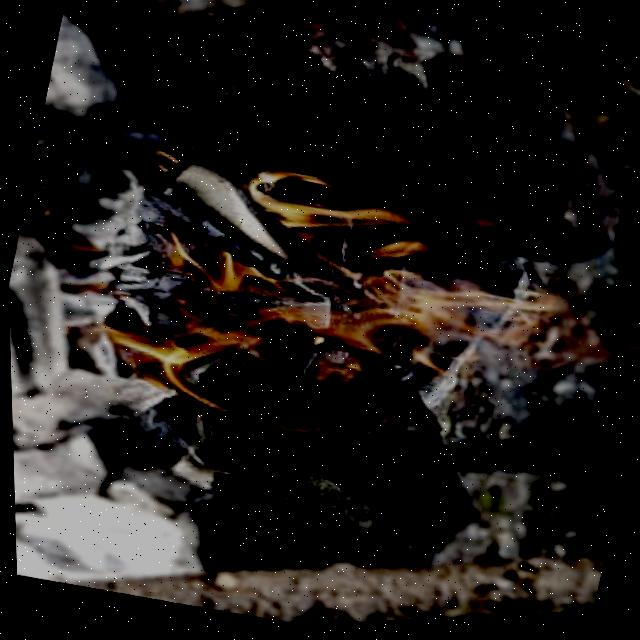Fire: (81, 128, 577, 494)
